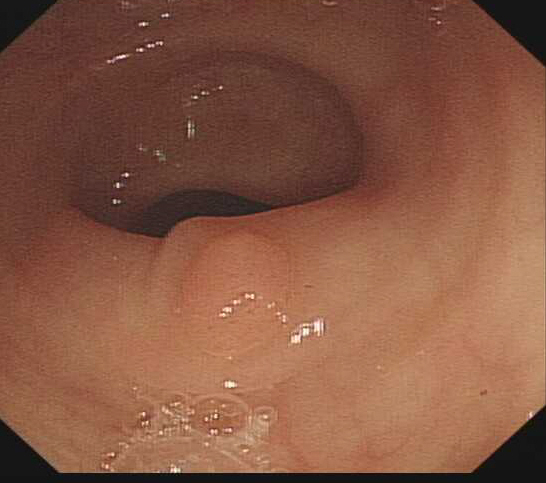others: (177, 227, 294, 359)
